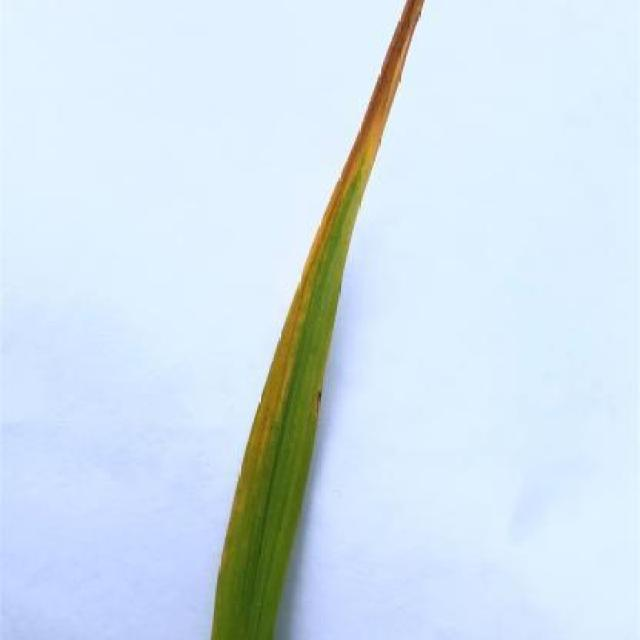Rice False Smut: (212, 0, 423, 639)
